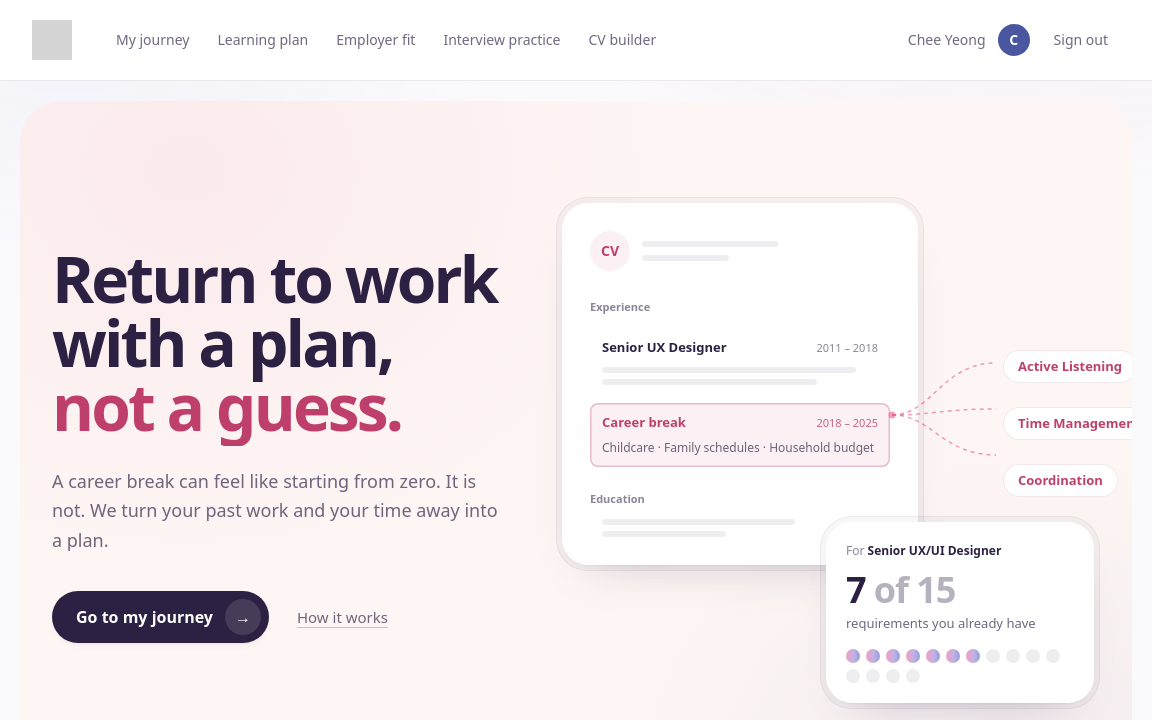
Test: resume point › takes a signed-in visitor from the front page back to her journey
This screenshot has width=1152, height=720.
Click the button "Go to my journey →": (160, 617) top-left (52, 591), bottom-right (269, 643)
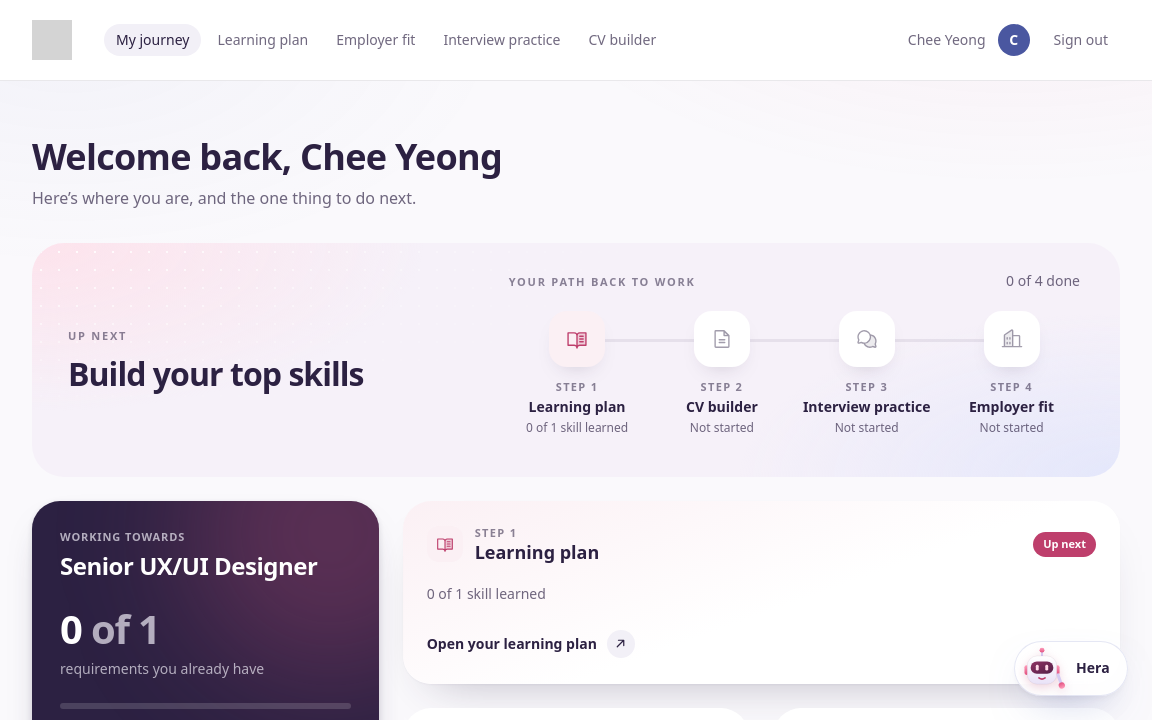
Expected: the heading "Welcome back, Chee Yeong" is shown, top-left (32, 132), bottom-right (502, 181)
